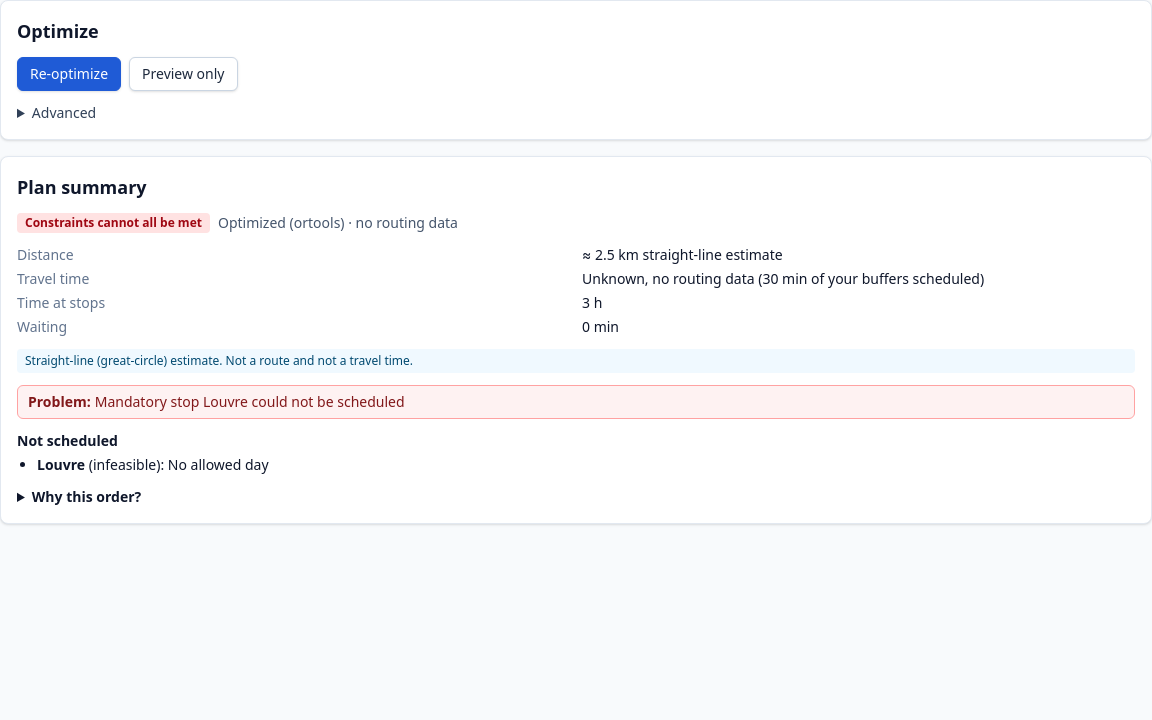
Test: OptimizePanel › shows infeasible state, unscheduled stops, issues and explanation
Expected: the text "Constraints cannot all be met" is shown, [17,213,210,233]
Expected: the list item "Problem:Mandatory stop Louvre could not be scheduled" is shown, [17,385,1135,419]
Click the heading "Why this order?" at (86, 496), box [32,487,141,506]
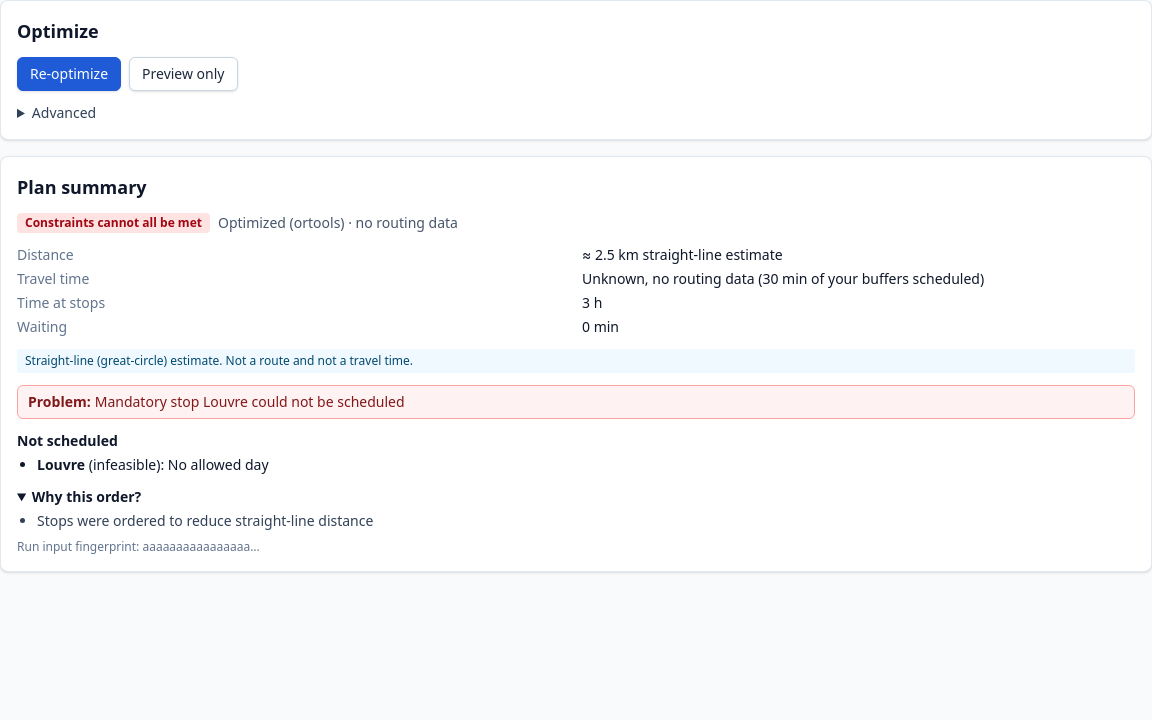
Now the list item "Stops were ordered to reduce straight-line distance" is shown, box [37,511,373,530]
